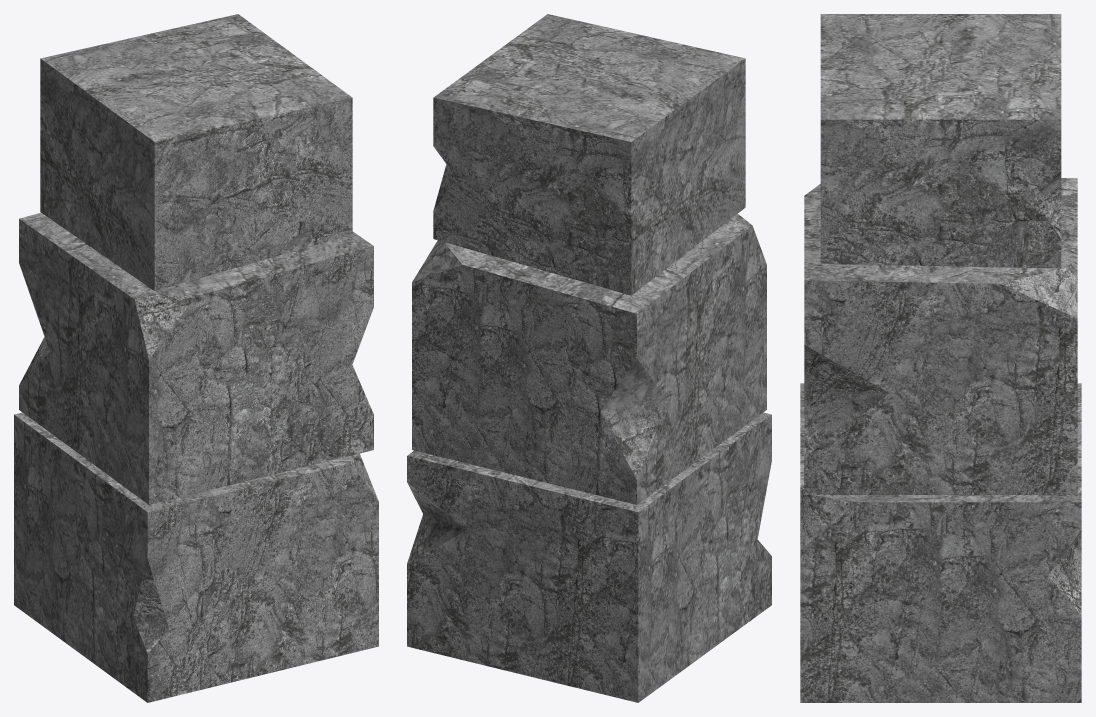
Rendered from materials_3_pillar_7.fbx.
The picture shows the model from 3 angles, left to right: view 1: azimuth 30°, elevation 25°; view 2: azimuth 150°, elevation 25°; view 3: azimuth 270°, elevation 25°; orthographic projection. The views are drawn at different scales.
Parts seen in each view (by area): view 1: materials_3_pillar_7; view 2: materials_3_pillar_7; view 3: materials_3_pillar_7.
Boxes of the visible parts, x1,y1,x2,y2 form: materials_3_pillar_7: (14, 14, 378, 702); materials_3_pillar_7: (407, 14, 771, 702); materials_3_pillar_7: (800, 14, 1081, 702).
Size of the model in its own units: 76.79 by 175 by 76.79.
